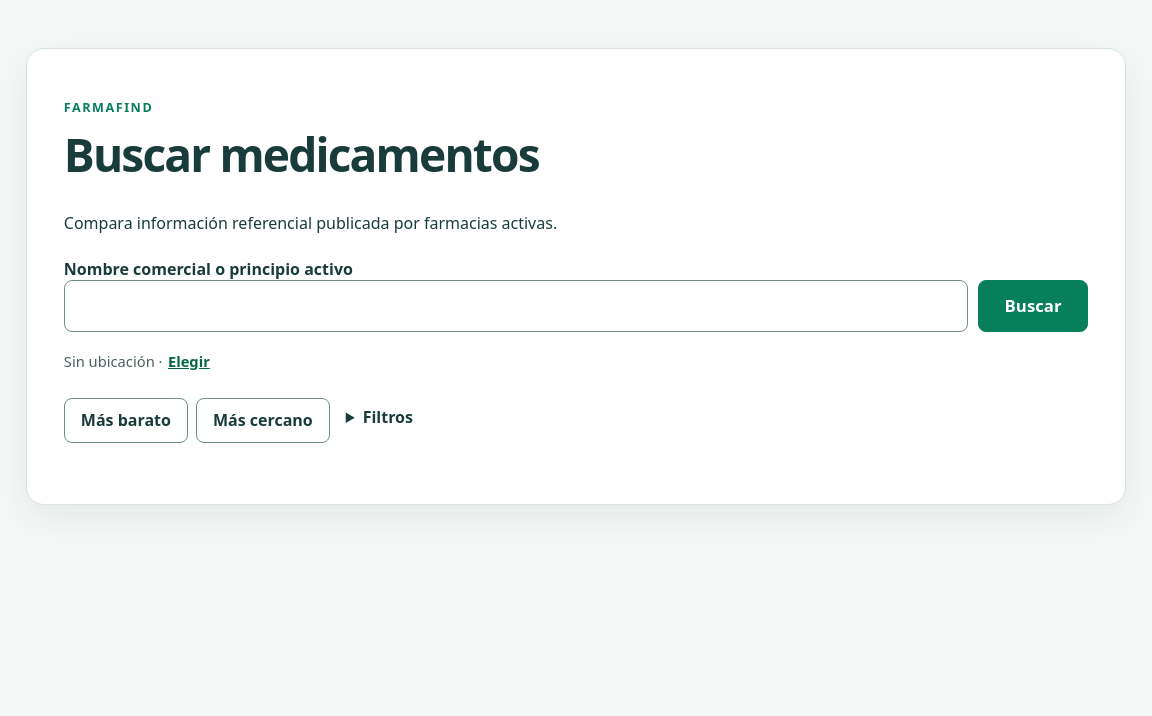
F08.1 búsqueda unificada › el estado de filtros queda en la URL y se restaura al volver
Earlier steps of the test are not shown.
Later steps or results of the test are not shown.
Type "paracetamol" into the dropdown labelled "Nombre comercial o principio activo". click: (516, 306)
box: [64,280,968,332]
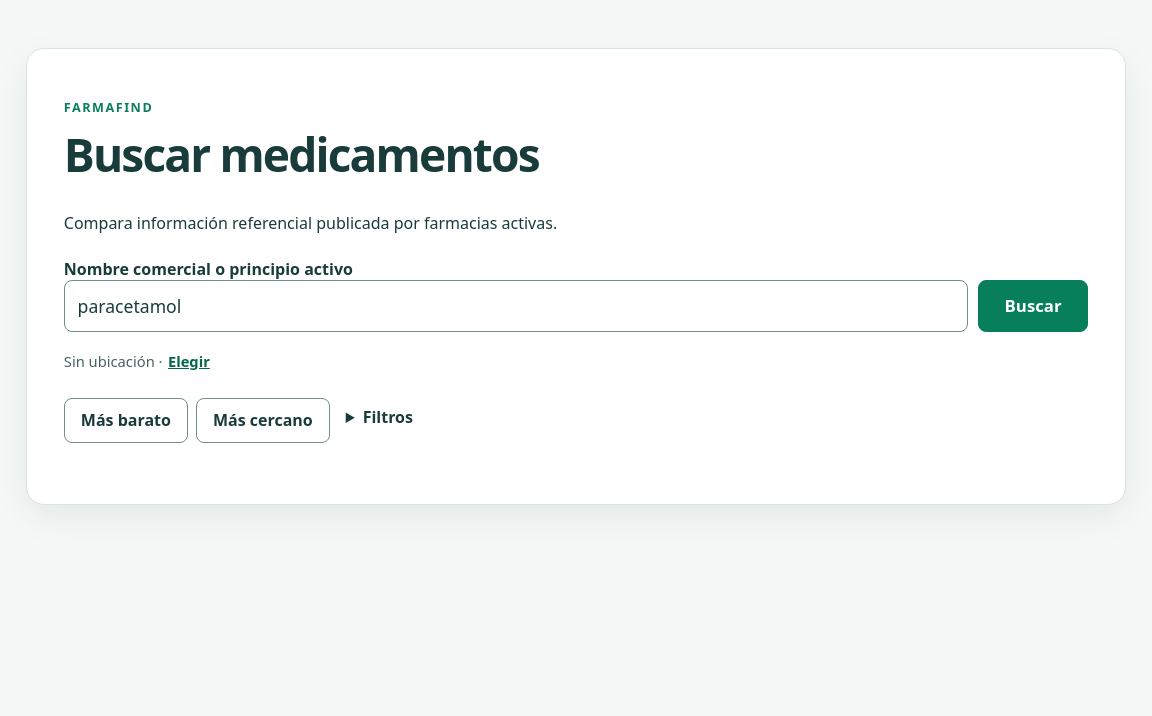
Click the button "Buscar". click: (1033, 306)
box: [978,280,1088,332]
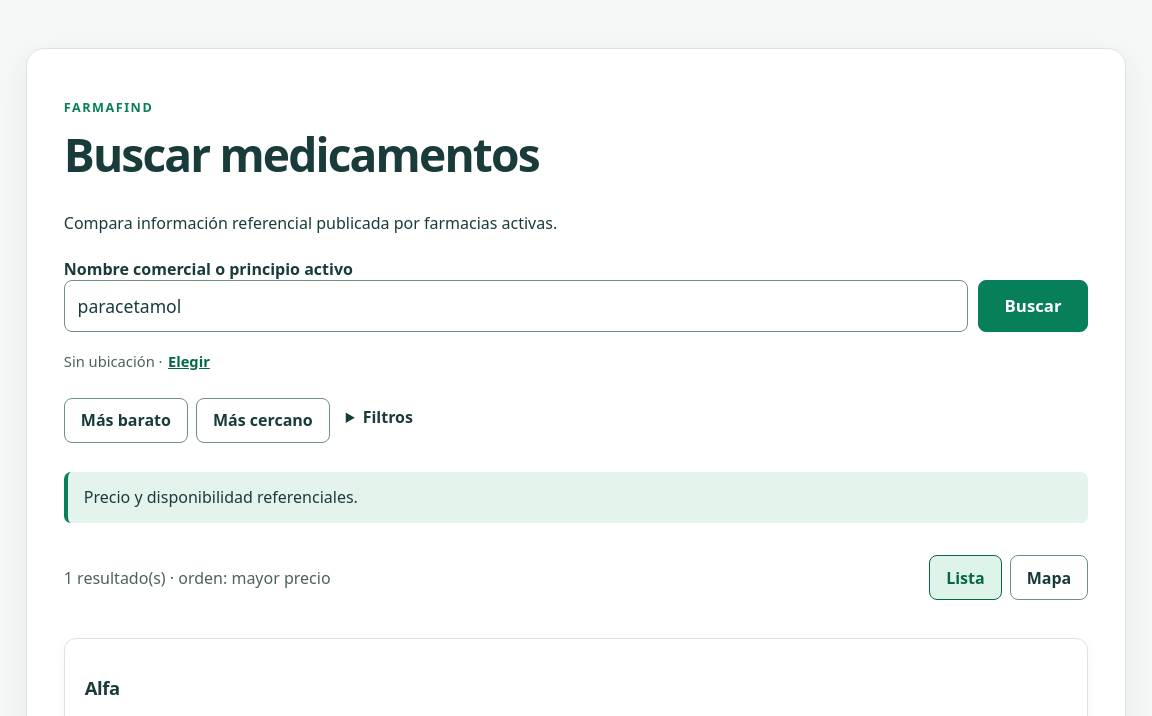
Expected: the heading "Alfa" is shown, [85,675,120,700]
